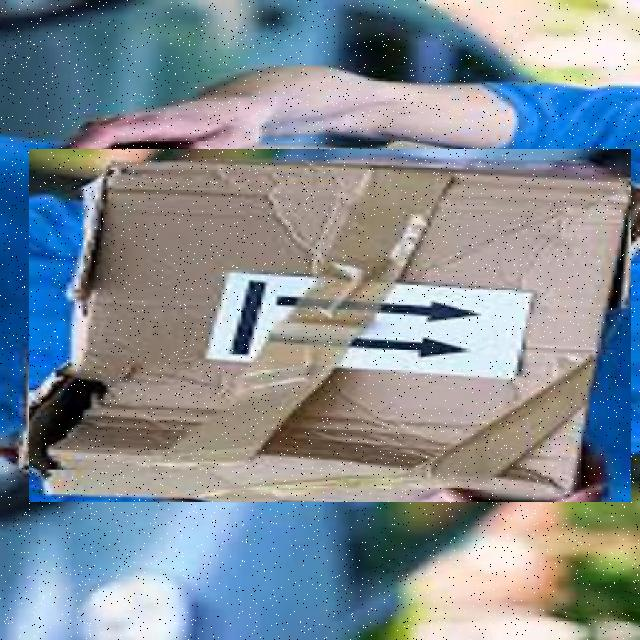defect: (29, 149, 631, 502)
